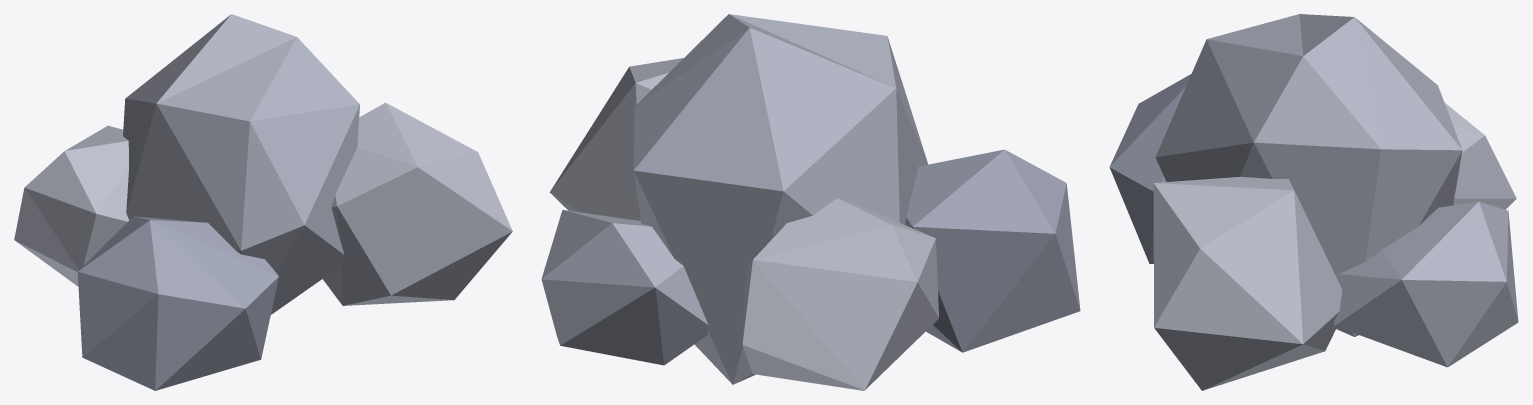
The model's file is rock_boulder.glb.
The picture shows the model from 3 angles, left to right: view 1: azimuth 30°, elevation 25°; view 2: azimuth 150°, elevation 25°; view 3: azimuth 270°, elevation 25°; orthographic projection. The views are drawn at different scales.
Parts seen in each view (by area): view 1: boulder_chunk1, boulder_chunk3, boulder_chunk2, boulder_chunk4; view 2: boulder_chunk1, boulder_chunk4, boulder_chunk3, boulder_chunk5, boulder_chunk2; view 3: boulder_chunk1, boulder_chunk2, boulder_chunk5, boulder_chunk3, boulder_chunk4.
Boxes of the visible parts, x1=… form: boulder_chunk1: x1=123, y1=14, x2=359, y2=314; boulder_chunk3: x1=77, y1=216, x2=278, y2=390; boulder_chunk2: x1=323, y1=102, x2=512, y2=305; boulder_chunk4: x1=14, y1=125, x2=129, y2=286; boulder_chunk1: x1=633, y1=14, x2=927, y2=384; boulder_chunk4: x1=742, y1=198, x2=938, y2=390; boulder_chunk3: x1=905, y1=149, x2=1080, y2=352; boulder_chunk5: x1=541, y1=210, x2=708, y2=365; boulder_chunk2: x1=549, y1=58, x2=683, y2=220; boulder_chunk1: x1=1155, y1=14, x2=1462, y2=336; boulder_chunk2: x1=1153, y1=176, x2=1342, y2=390; boulder_chunk5: x1=1334, y1=201, x2=1518, y2=367; boulder_chunk3: x1=1109, y1=74, x2=1191, y2=263; boulder_chunk4: x1=1444, y1=102, x2=1516, y2=209.
Bounding box in the file's own units: 0.9077 × 0.5844 × 0.7201.
